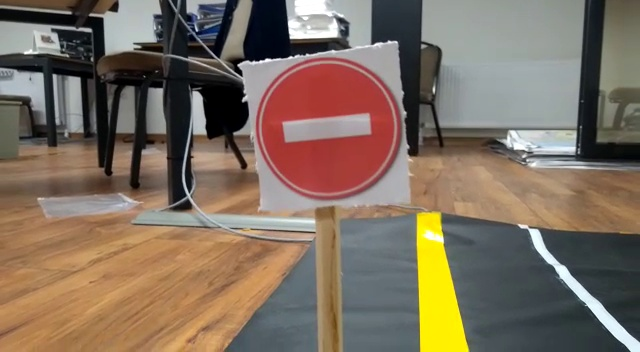girisi_olmayan_yol: (257, 48, 407, 210)
